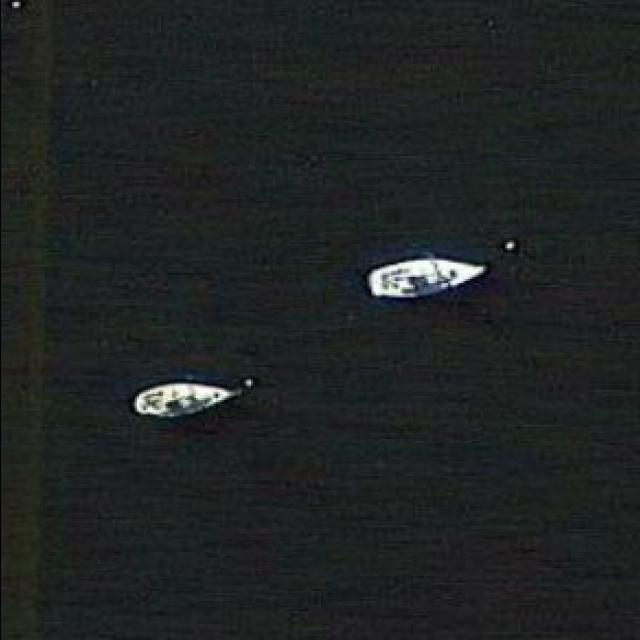ship: (366, 254, 491, 304), (130, 374, 248, 418)
